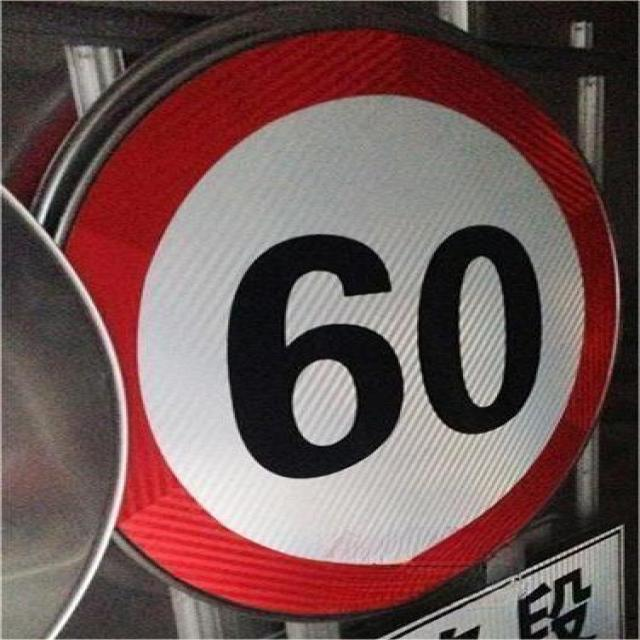speed limit 60: (33, 1, 619, 619)
